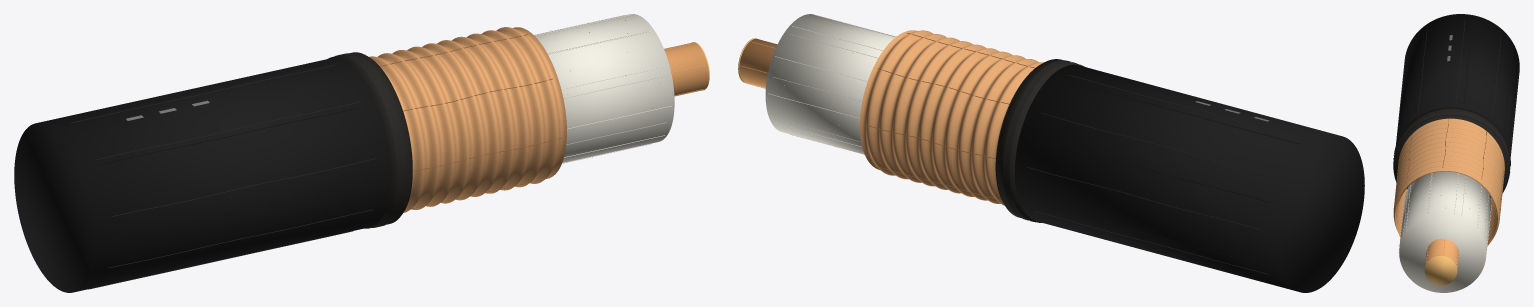
Rendered from rf-fsj1-macro.glb.
3 renders of one model, left to right at view 1: azimuth 30°, elevation 25°; view 2: azimuth 150°, elevation 25°; view 3: azimuth 270°, elevation 25°, orthographic. The views are drawn at different scales.
Visible parts, largest first — view 1: macro hardline jacket body, annular corrugated solid shield, macro foam dielectric exposed core, hardline jacket cut wall, polished solid center conductor, rounded jacket cut lip; view 2: macro hardline jacket body, annular corrugated solid shield, macro foam dielectric exposed core, hardline jacket cut wall, polished solid center conductor, rounded jacket cut lip; view 3: macro hardline jacket body, macro foam dielectric exposed core, annular corrugated solid shield, hardline jacket cut wall, polished conductor cut face glow, polished solid center conductor, rounded jacket cut lip, inner jacket shadow bevel.
Boxes of the visible parts, bbox=[...] form: macro hardline jacket body: bbox=[14, 57, 390, 292]; annular corrugated solid shield: bbox=[369, 27, 566, 212]; macro foam dielectric exposed core: bbox=[534, 14, 674, 162]; hardline jacket cut wall: bbox=[328, 52, 411, 228]; polished solid center conductor: bbox=[664, 42, 708, 96]; rounded jacket cut lip: bbox=[335, 53, 404, 227]; macro hardline jacket body: bbox=[1015, 64, 1364, 292]; annular corrugated solid shield: bbox=[860, 30, 1043, 205]; macro foam dielectric exposed core: bbox=[765, 14, 895, 154]; hardline jacket cut wall: bbox=[996, 59, 1084, 222]; polished solid center conductor: bbox=[739, 38, 777, 87]; rounded jacket cut lip: bbox=[1003, 60, 1077, 222]; macro hardline jacket body: bbox=[1396, 14, 1519, 156]; macro foam dielectric exposed core: bbox=[1399, 171, 1491, 292]; annular corrugated solid shield: bbox=[1393, 118, 1504, 245]; hardline jacket cut wall: bbox=[1393, 107, 1510, 197]; polished conductor cut face glow: bbox=[1424, 255, 1457, 285]; polished solid center conductor: bbox=[1425, 238, 1458, 268]; rounded jacket cut lip: bbox=[1393, 109, 1510, 175]; inner jacket shadow bevel: bbox=[1394, 115, 1508, 191].
Size of the model in its own units: 6.47 by 1.56 by 1.68.
